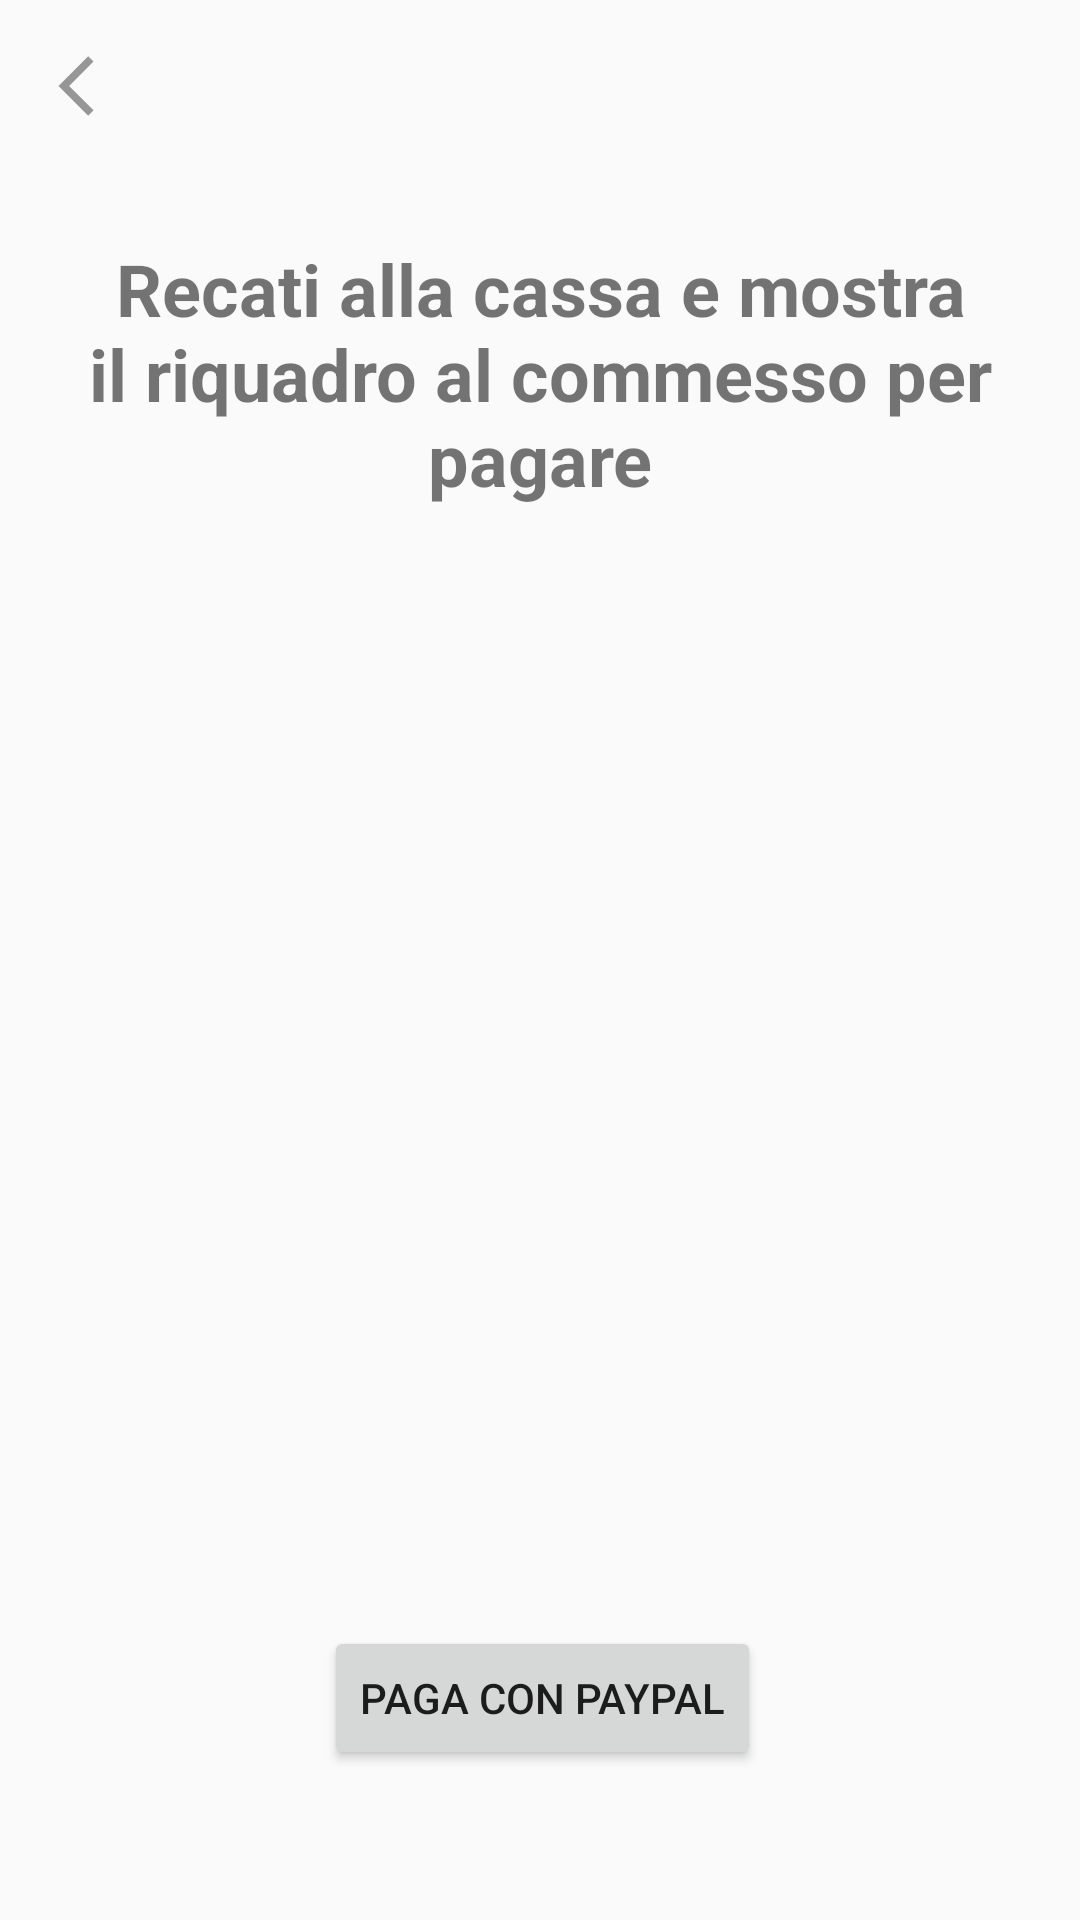

Named icons in this screenshot (1080*1920) and their centers, [x,y]:
arrow back: [76,86]
